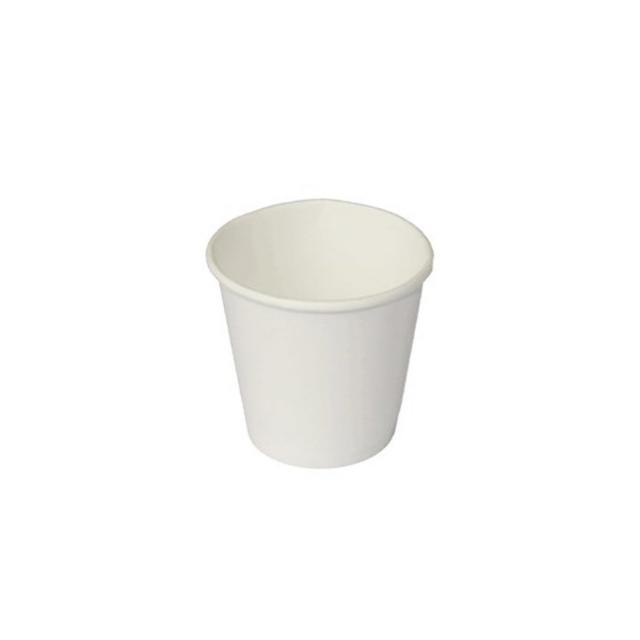trash: (203, 195, 462, 497)
